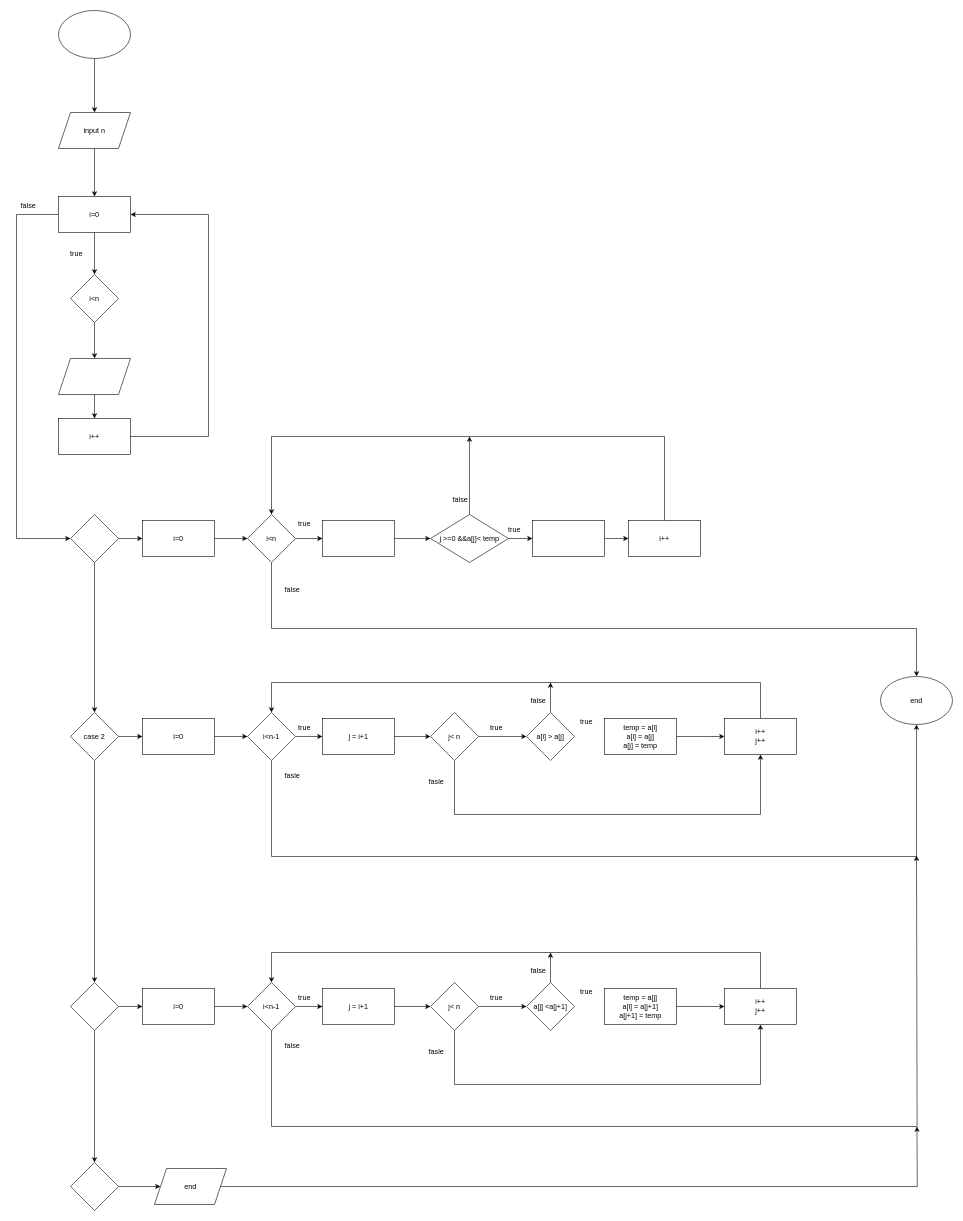
Image size: 963x1221. Some labels were removed from this diagram. Here are the shapes that lost their labels. From the top down, the box of each, then its label:
(58, 10, 130, 58): start
(58, 358, 130, 394): input a[i]
(70, 514, 118, 562): case 1
(322, 520, 394, 556): j = i-1 temp = a[i]
(532, 520, 604, 556): a[j+1] = a[j] j =j-1 a[j+1] = temp
(70, 982, 118, 1030): case 3
(70, 1162, 118, 1210): case 4
